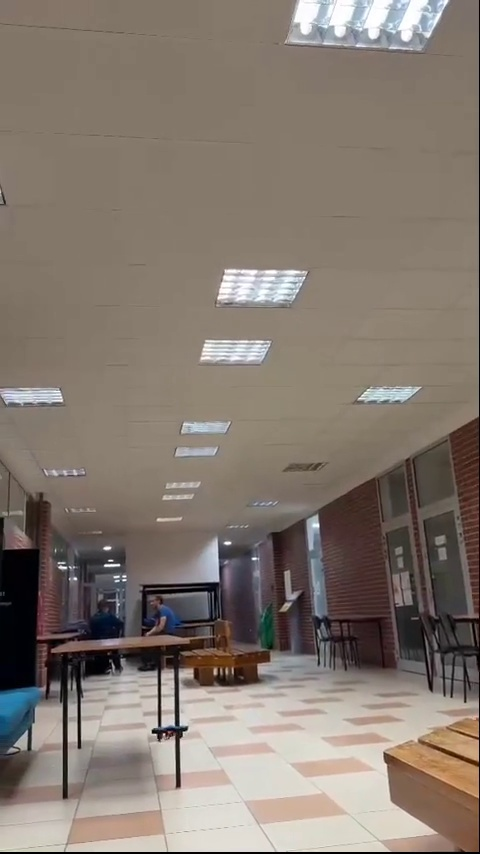drone: (150, 723, 190, 743)
no vest: (147, 595, 179, 639), (87, 601, 122, 637)
